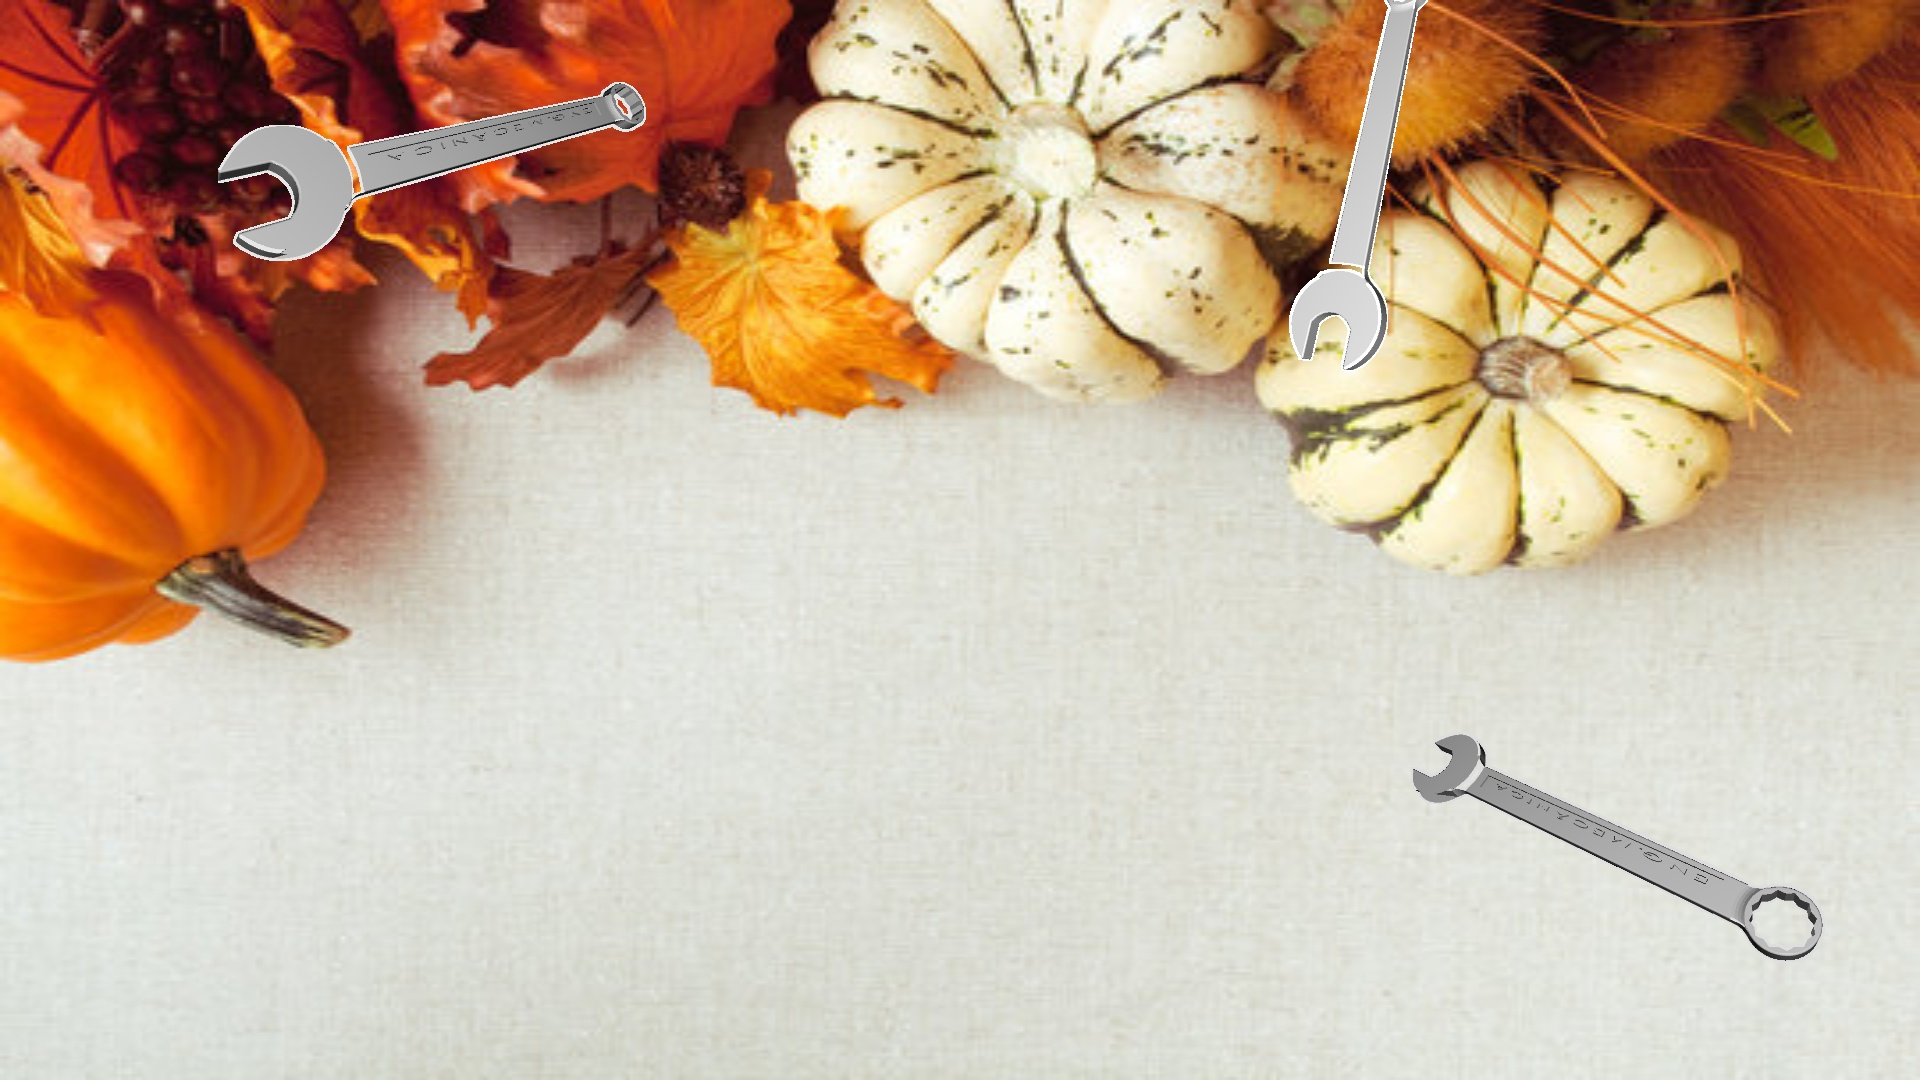Mixed Key: (1411, 732, 1824, 961), (218, 82, 645, 260), (1288, 0, 1427, 371)
